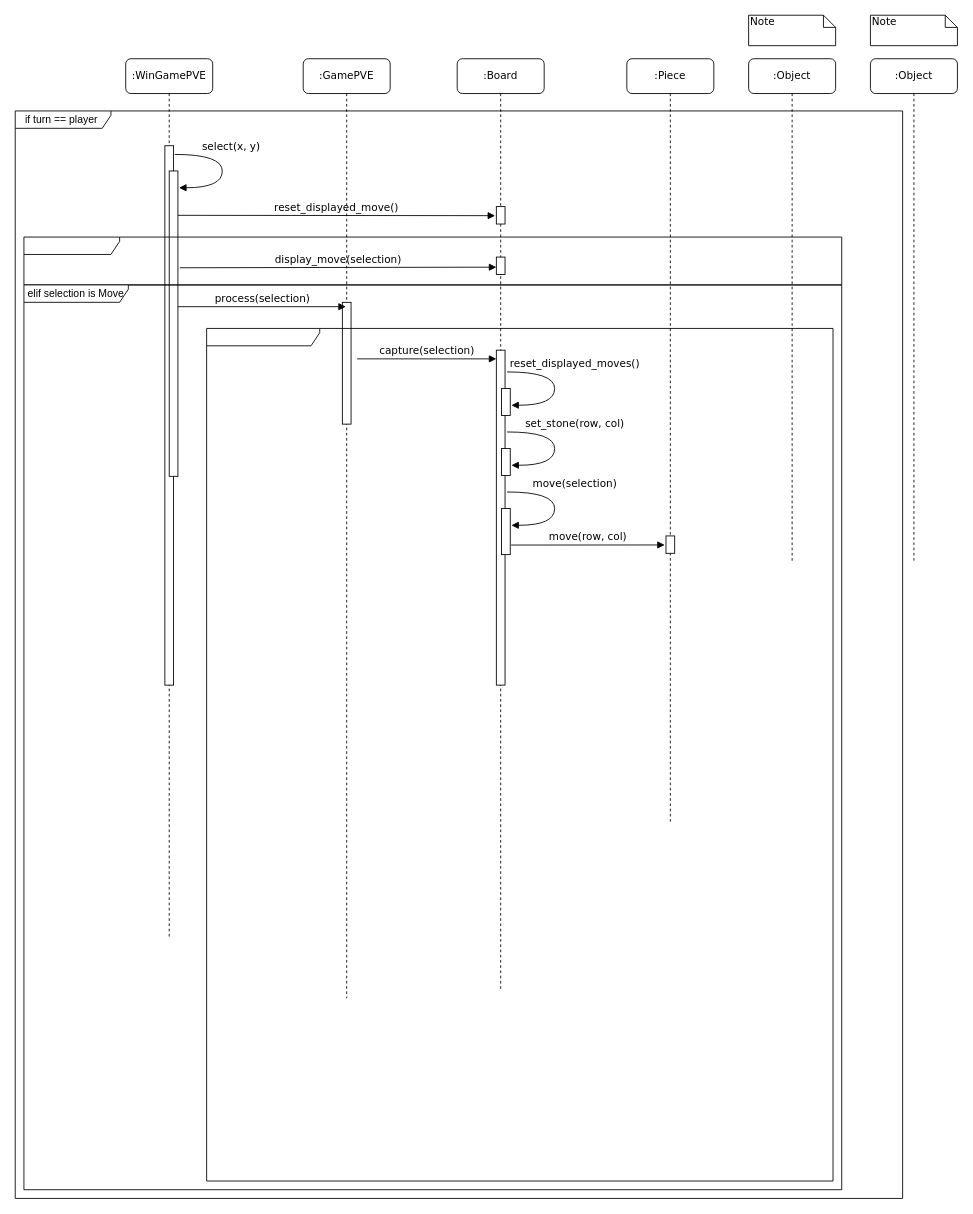
This 973x1214 diagram has some shape labels left out. The shapes that lost their labels are listed below. From the top down, each one's centre as x and y in pixels, then its label:
At (432,260): "if selection is Men".
At (519,754): "If selection is Capture".
